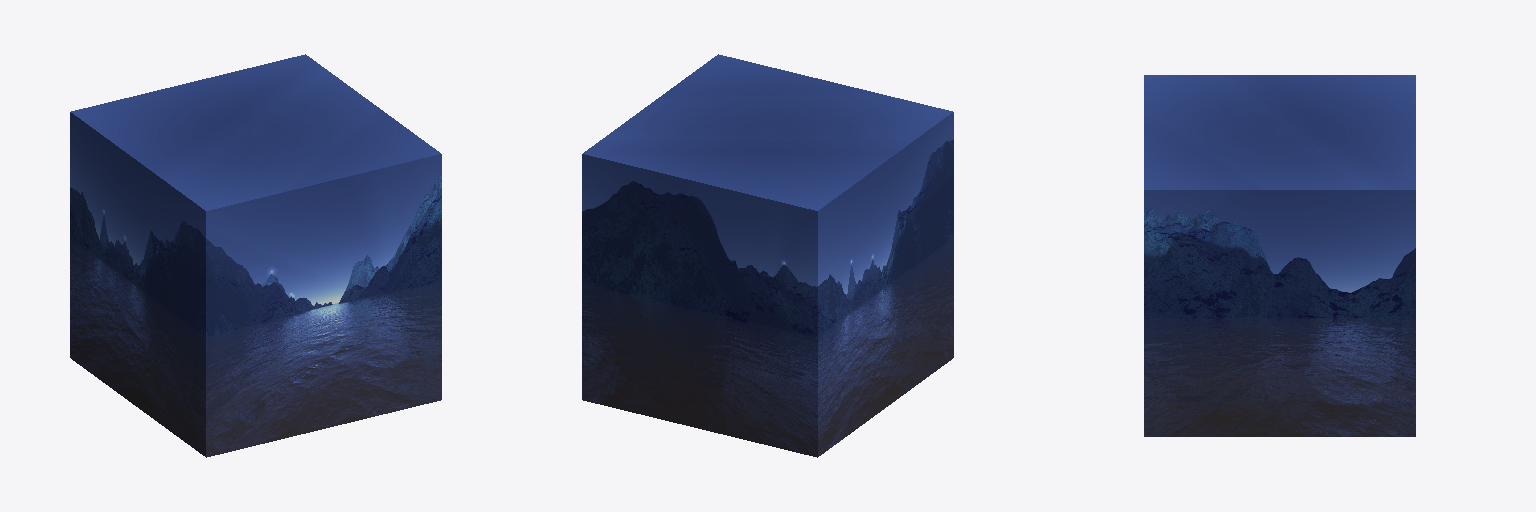
The picture shows the model from 3 angles: view 1: azimuth 30°, elevation 25°; view 2: azimuth 150°, elevation 25°; view 3: azimuth 270°, elevation 25°; orthographic projection.
Parts seen in each view (by area): view 1: Box001; view 2: Box001; view 3: Box001.
Part boxes in pixels (left/top/right/bottom): Box001: left=70, top=54, right=441, bottom=457; Box001: left=582, top=54, right=953, bottom=457; Box001: left=1144, top=75, right=1415, bottom=436.
Bounding box in the file's own units: 45 × 45 × 45.
6 materials, 6 textured.